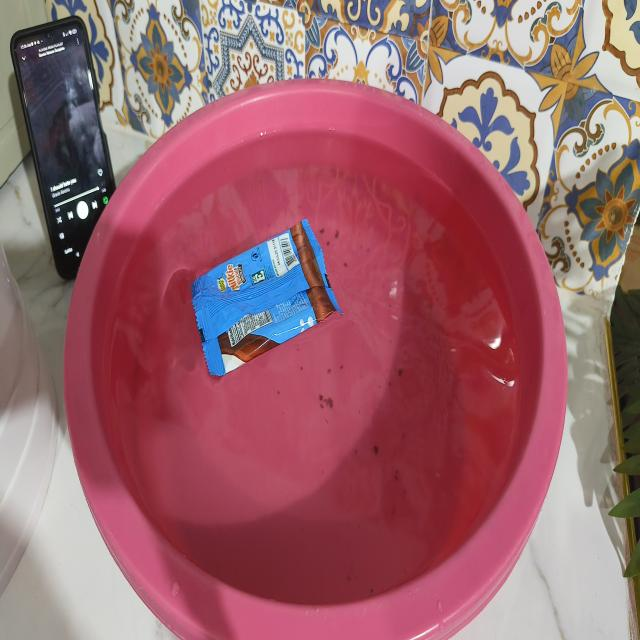Plastic Wrapper: (191, 219, 344, 376)
